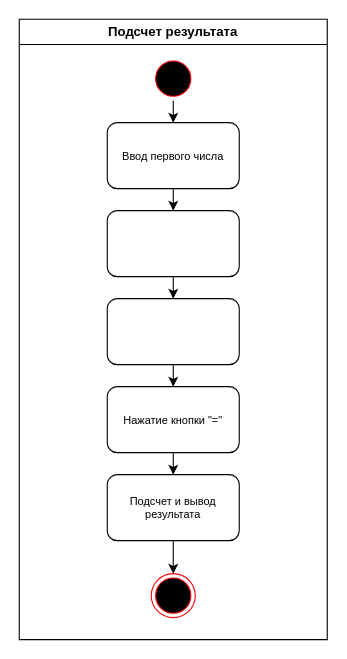
Some shapes in this 347 by 659 pixel diagram are drawn without their labels. Each missing label, with the centre of its shape:
"Ввод второго числа" belongs at [172,331].
"Выбор действия" belongs at [172,243].
